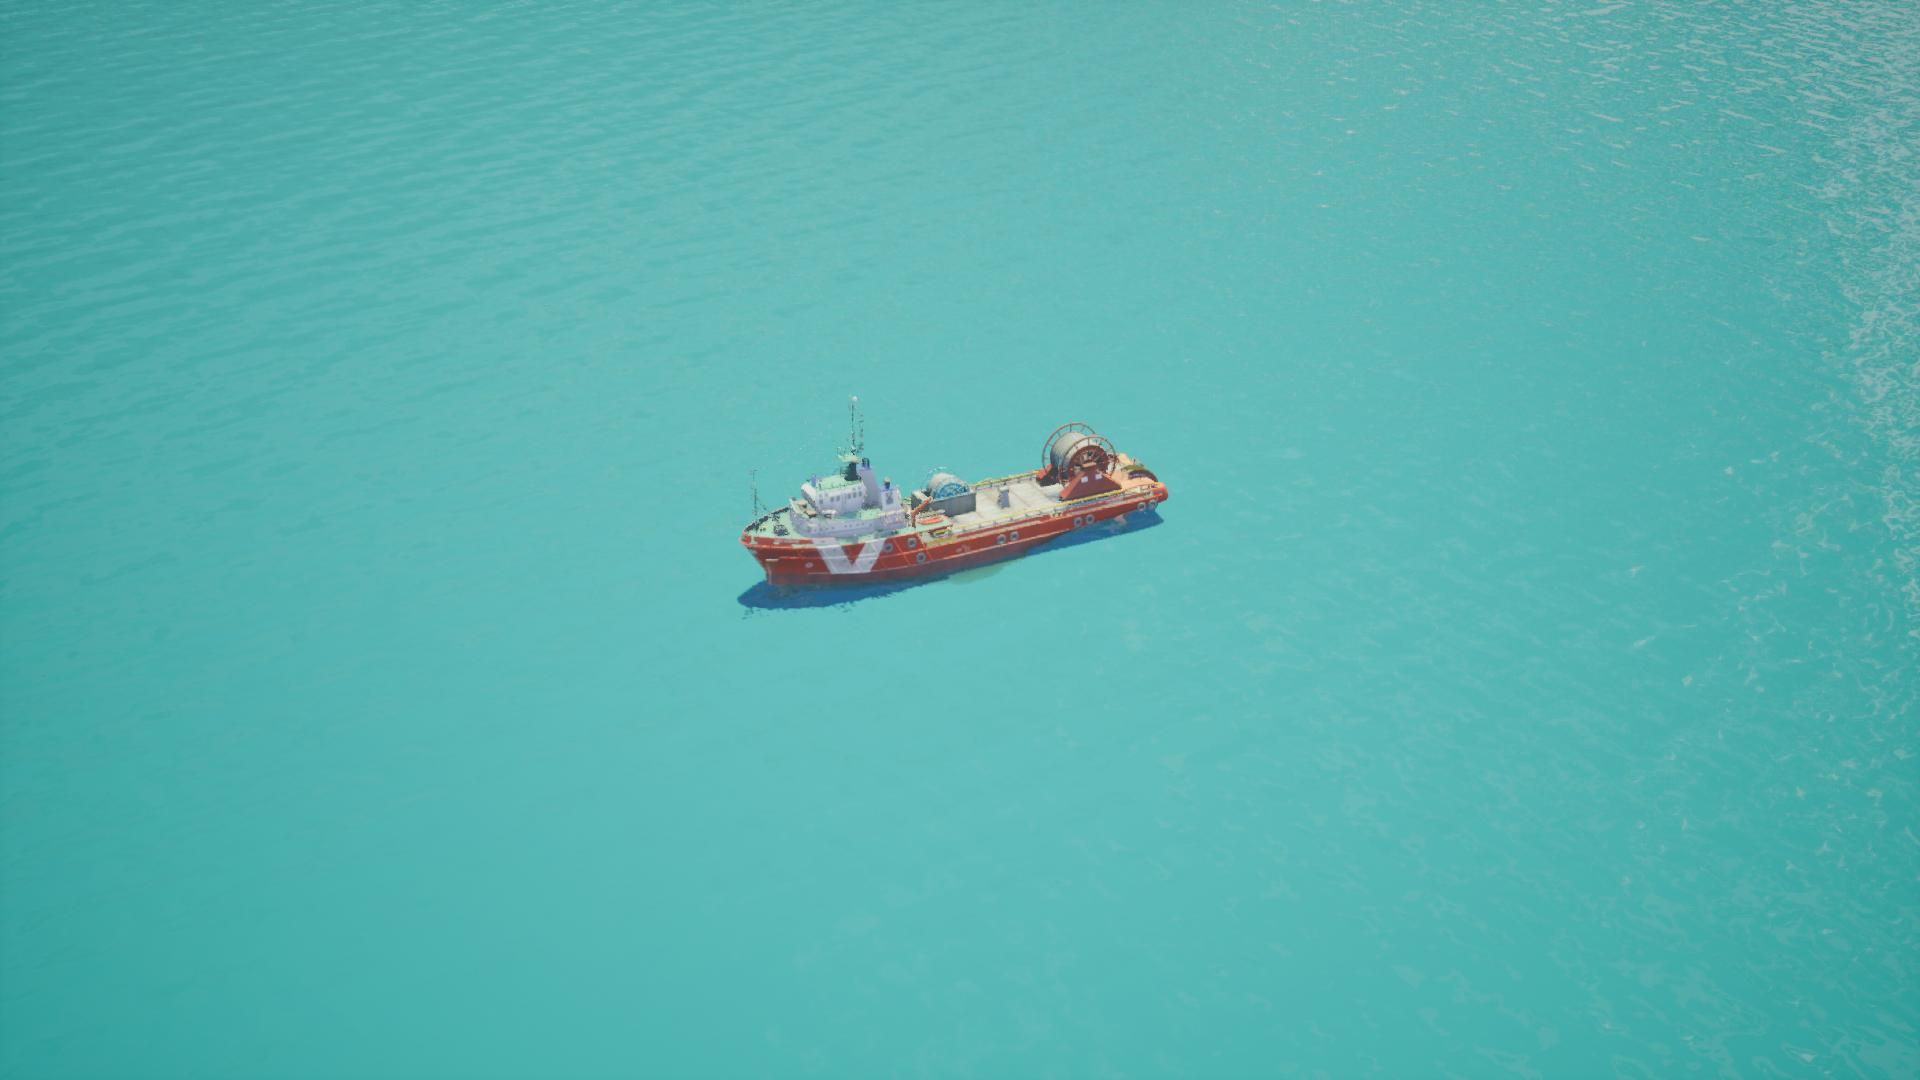Tug Boat: (737, 397, 1171, 615)
